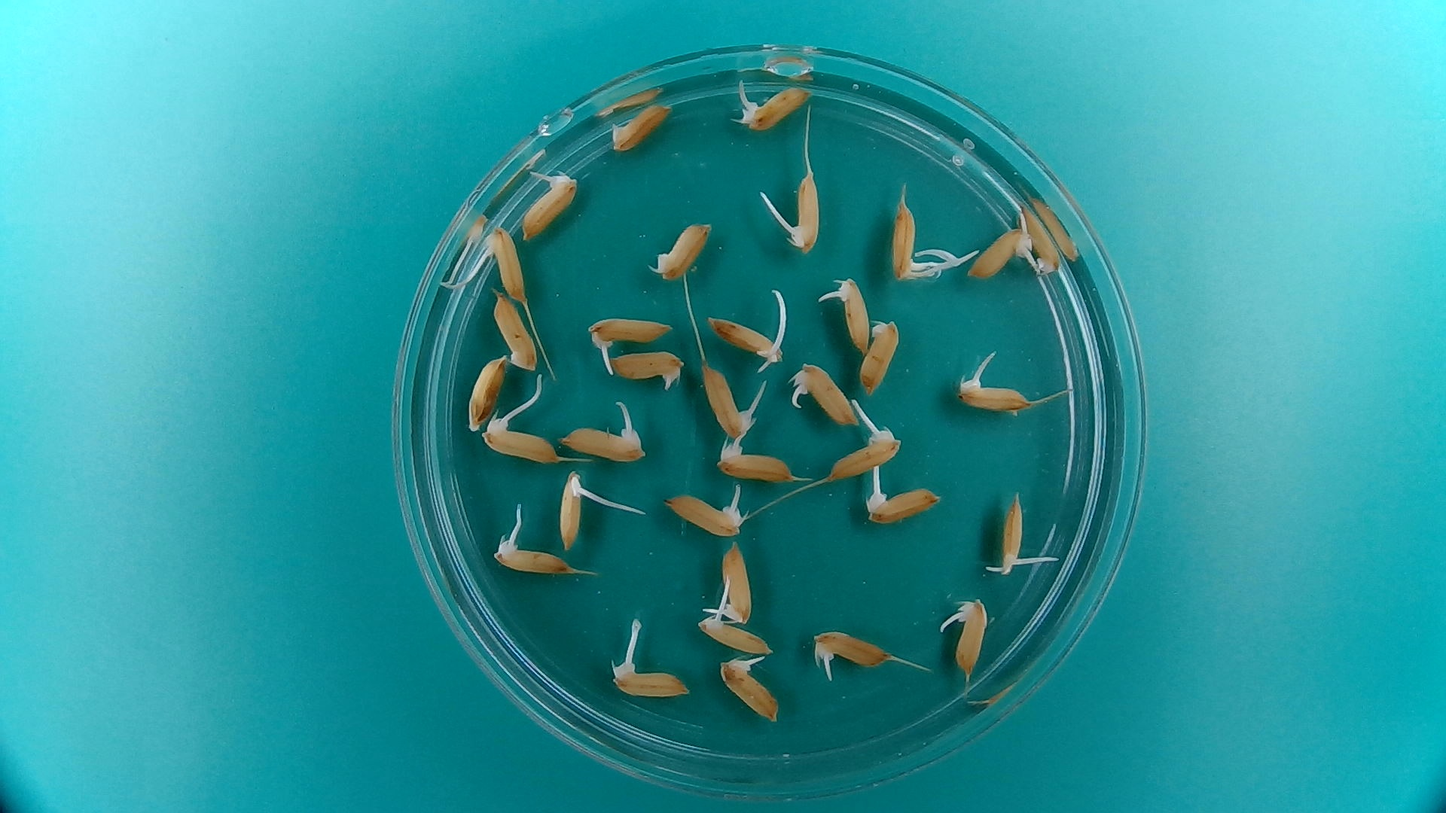no: (648, 216, 715, 282), (492, 290, 541, 373), (858, 313, 902, 397), (607, 99, 674, 154), (1018, 199, 1065, 277), (463, 351, 507, 434)
yes: (791, 358, 860, 427), (718, 652, 782, 723), (712, 437, 805, 483), (825, 427, 902, 482), (518, 172, 576, 243), (965, 223, 1035, 281), (701, 365, 755, 435), (862, 479, 944, 525), (584, 310, 679, 349), (482, 223, 528, 303), (742, 83, 816, 132), (604, 348, 688, 389), (566, 421, 652, 461), (716, 540, 756, 626), (706, 315, 784, 359), (484, 416, 560, 461), (786, 168, 825, 254), (555, 467, 593, 553), (949, 597, 993, 669), (490, 541, 577, 577), (663, 498, 744, 535), (609, 663, 690, 699), (810, 629, 888, 666), (953, 376, 1029, 413), (889, 202, 923, 283), (837, 273, 870, 354), (698, 614, 776, 648), (998, 488, 1028, 576)
